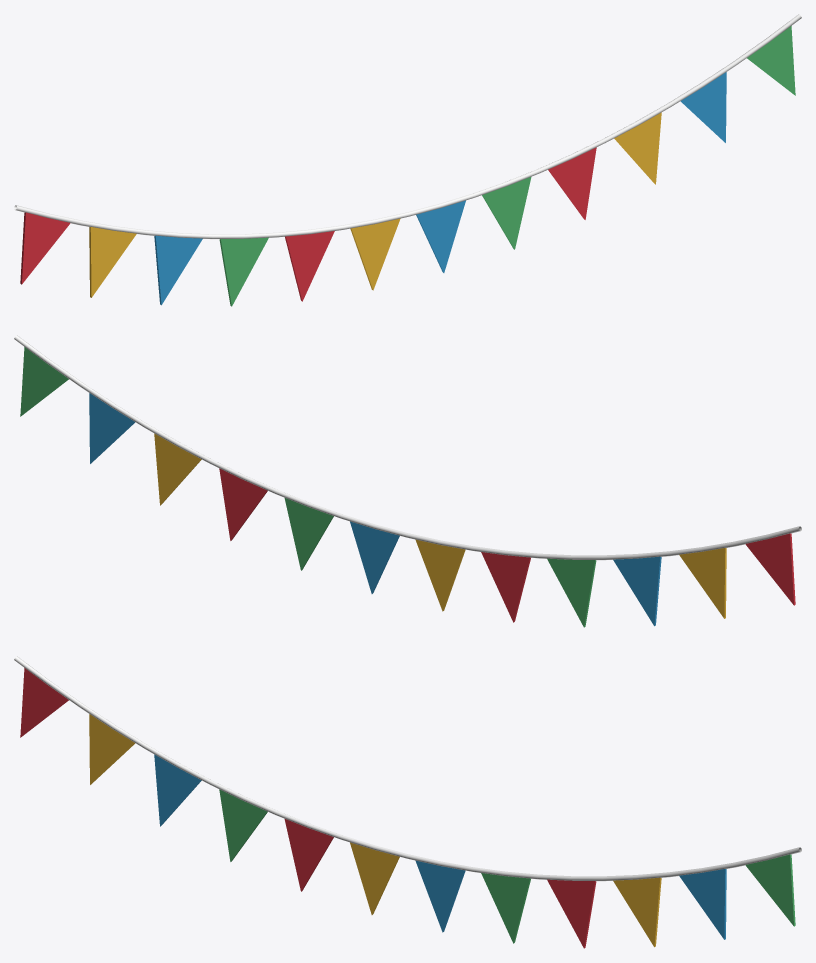
The model's file is PumpBunting.obj.
3 views of the same model, one above another, from view 1: azimuth 30°, elevation 25°; view 2: azimuth 150°, elevation 25°; view 3: azimuth 330°, elevation 25° (orthographic).
Visible parts, largest first — view 1: FlagA, FlagB, FlagC, FlagD, String; view 2: FlagA, FlagB, FlagC, FlagD, String; view 3: FlagD, FlagC, FlagB, FlagA, String.
Boxes of the visible parts, <box> form: FlagA: <box>20,147,596,301</box>; FlagB: <box>89,112,661,297</box>; FlagC: <box>154,72,726,305</box>; FlagD: <box>219,26,795,306</box>; String: <box>14,14,801,239</box>; FlagA: <box>219,468,795,622</box>; FlagB: <box>154,433,726,618</box>; FlagC: <box>89,393,661,626</box>; FlagD: <box>20,347,596,627</box>; String: <box>14,335,801,560</box>; FlagD: <box>219,789,795,943</box>; FlagC: <box>154,754,726,939</box>; FlagB: <box>89,714,661,947</box>; FlagA: <box>20,668,596,948</box>; String: <box>14,656,801,881</box>.
Bounding box in the file's own units: 24.06 × 5.02 × 0.1212.
